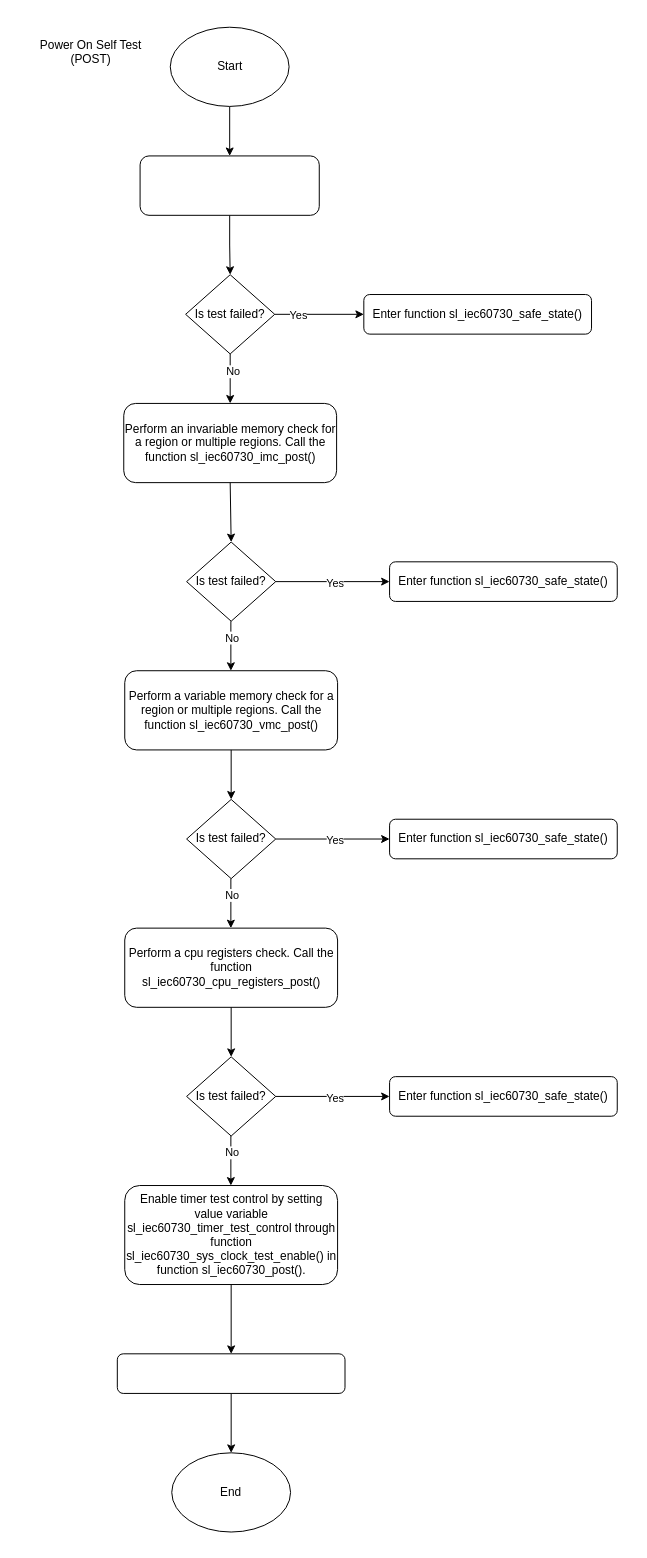
Image size: 647x1558. Some labels were removed from this diagram. The box of each missing label's shape, as (x1, y1, x2, y2) in pixels:
Perform watchdog check, call function: sl_iec60730_watchdog_post(): (139, 155, 319, 215)
Restart watchdogs by function: sl_iec60730_restart_watchdogs(): (116, 1353, 345, 1393)
